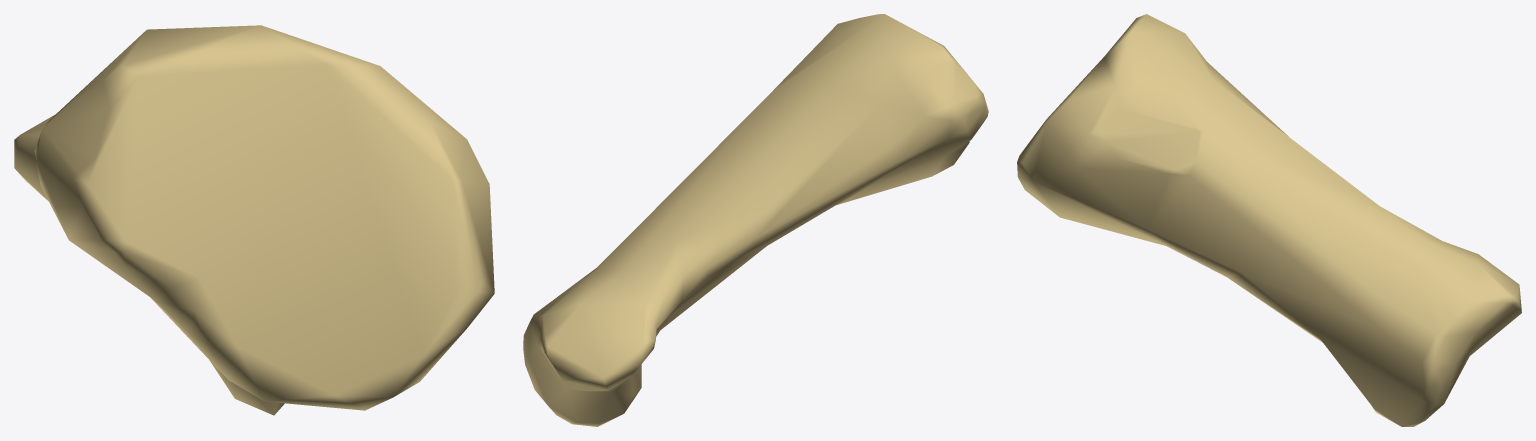
3 views of the same model, side by side, from view 1: azimuth 30°, elevation 25°; view 2: azimuth 150°, elevation 25°; view 3: azimuth 270°, elevation 25° (orthographic). The views are drawn at different scales.
Parts seen in each view (by area): view 1: 左侧第一指近节指骨; view 2: 左侧第一指近节指骨; view 3: 左侧第一指近节指骨.
Part boxes in pixels (x1=…): 左侧第一指近节指骨: x1=14, y1=25, x2=494, y2=415; 左侧第一指近节指骨: x1=523, y1=14, x2=988, y2=426; 左侧第一指近节指骨: x1=1017, y1=14, x2=1521, y2=426.
Bounding box in the file's own units: 0.0308 × 0.0339 × 0.0479.
